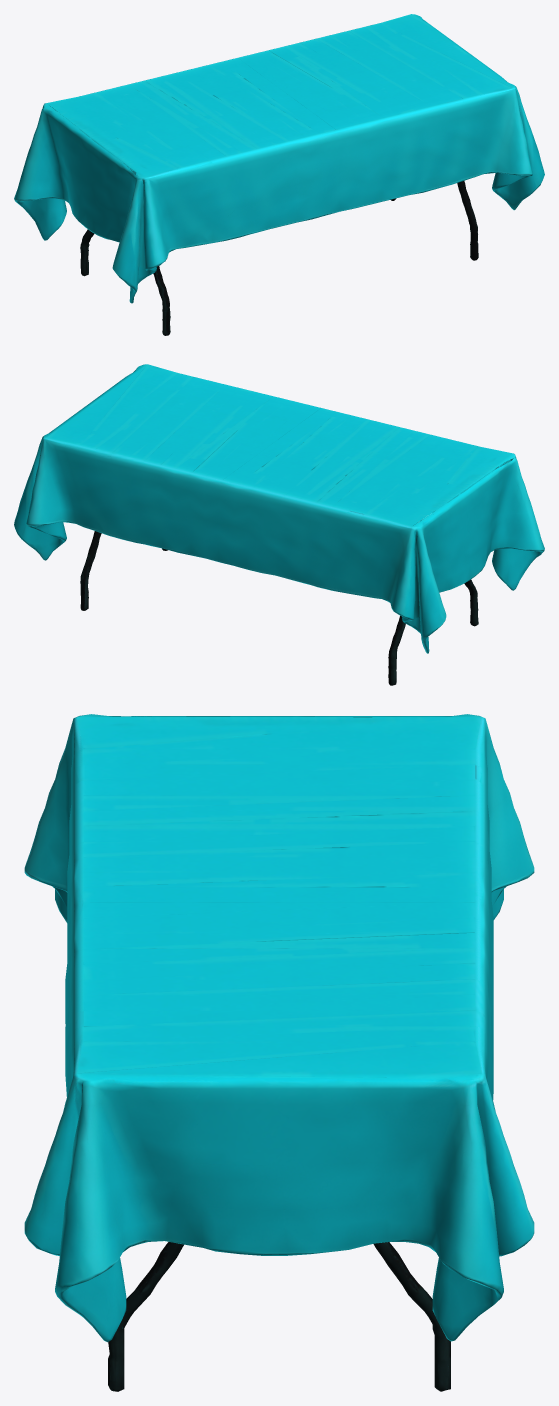
Rendered from BNQ_TBLE_TURQ_LINEN_H_0630194236_texture.glb.
3 views of the same model, one above another, from view 1: azimuth 30°, elevation 25°; view 2: azimuth 150°, elevation 25°; view 3: azimuth 270°, elevation 25° (orthographic). The views are drawn at different scales.
Parts seen in each view (by area): view 1: Mesh_0.003; view 2: Mesh_0.003; view 3: Mesh_0.003.
Part boxes in pixels (<box>): Mesh_0.003: <box>14,14,544,335</box>; Mesh_0.003: <box>14,364,544,685</box>; Mesh_0.003: <box>24,714,534,1391</box>.
Size of the model in its own units: 1.98 by 0.762 by 1.02.
Materials: 1 (1 with a texture image).
